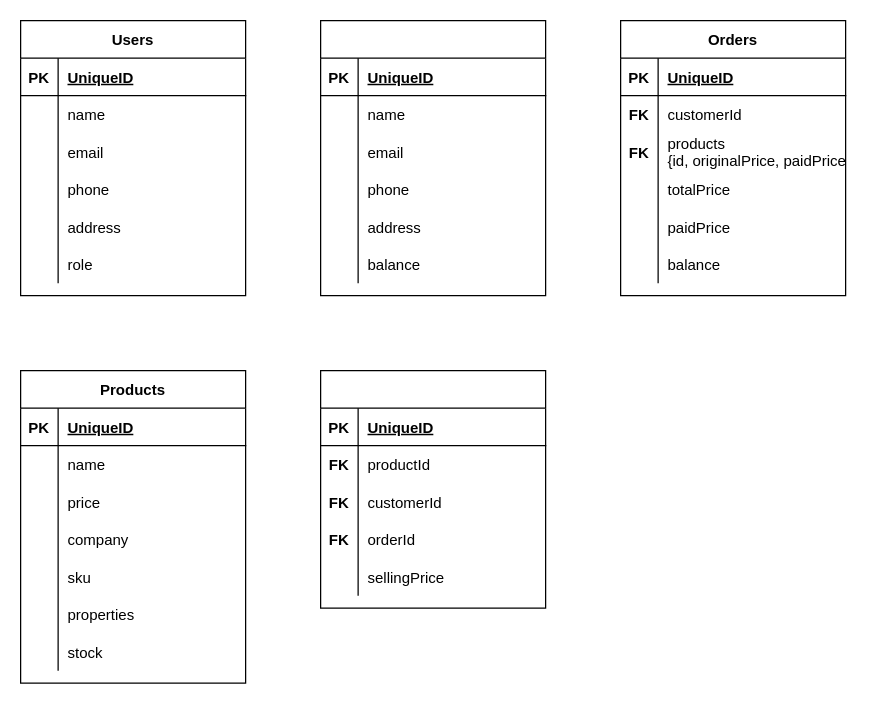
This 876x704 diagram has some shape labels left out. The shapes that lost their labels are listed below. From the top down, each one's box as (x1, y1, x2, y2) in pixels, then its label:
(319, 19, 546, 296): Customers
(319, 369, 546, 608): SaleRecords
